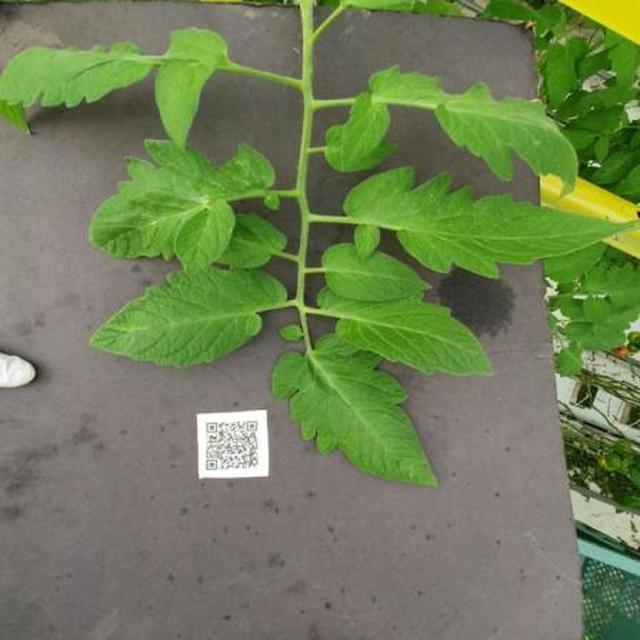Healthy Leaf: (161, 89, 640, 590)
